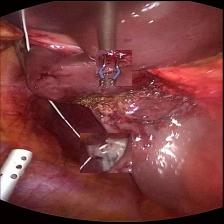Bipolar: (96, 49, 132, 85)
Irrigator: (0, 146, 42, 192)
Specimen Bag: (80, 132, 132, 172)
